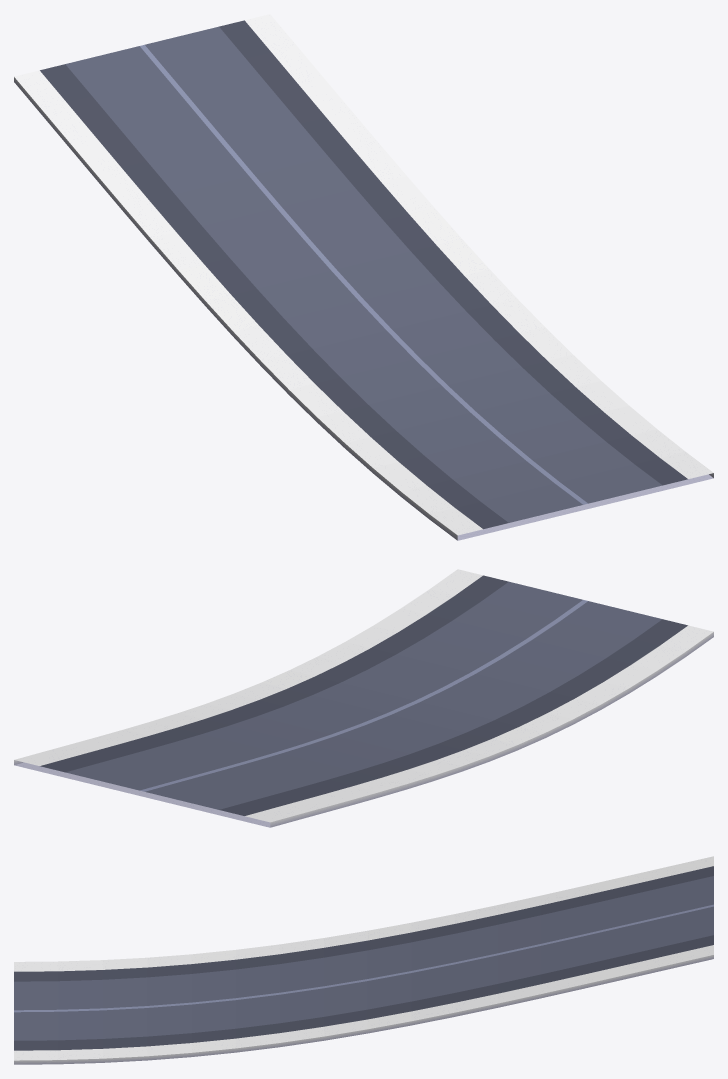
The model's file is road-Straight-Flat-BiSlopeUp-Up2-Center-Size3.glb.
The picture shows the model from 3 angles, top to bottom: view 1: azimuth 30°, elevation 25°; view 2: azimuth 150°, elevation 25°; view 3: azimuth 270°, elevation 25°; orthographic projection. The views are drawn at different scales.
Parts seen in each view (by area): view 1: road-Straight-Flat-BiSlopeUp-Up2-Center-Size3; view 2: road-Straight-Flat-BiSlopeUp-Up2-Center-Size3; view 3: road-Straight-Flat-BiSlopeUp-Up2-Center-Size3.
Part boxes in pixels (x1=…): road-Straight-Flat-BiSlopeUp-Up2-Center-Size3: x1=14, y1=14, x2=713, y2=540; road-Straight-Flat-BiSlopeUp-Up2-Center-Size3: x1=14, y1=569, x2=713, y2=827; road-Straight-Flat-BiSlopeUp-Up2-Center-Size3: x1=14, y1=856, x2=713, y2=1064.
Size of the model in its own units: 1 by 0.52 by 3.
Materials: 1 (1 with a texture image).
